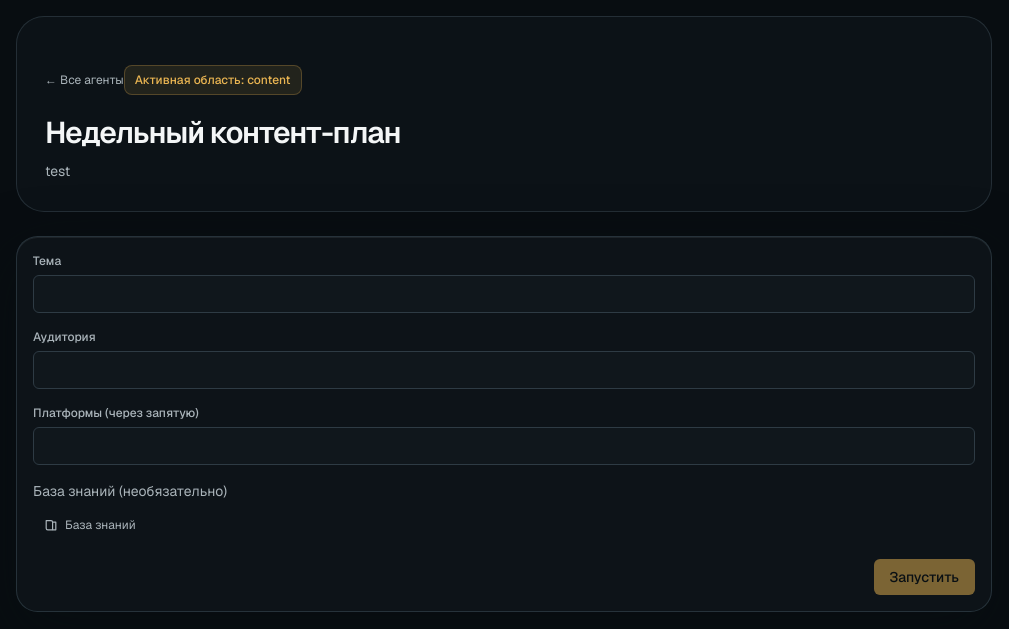
AgentRunPage › renders the weekly-content-plan result shape
Type "запуск" into the field labelled "Тема".
click(504, 294); type("запуск")  # box [33, 275, 975, 313]
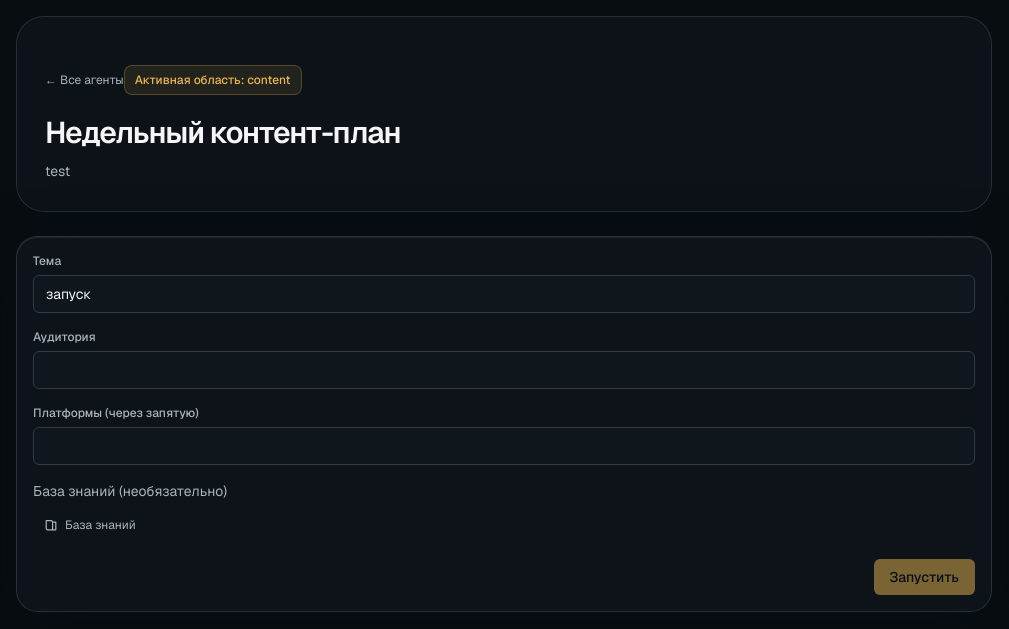
Type "малый бизнес" into the field labelled "Аудитория".
click(504, 370); type("малый бизнес")  # box [33, 351, 975, 389]
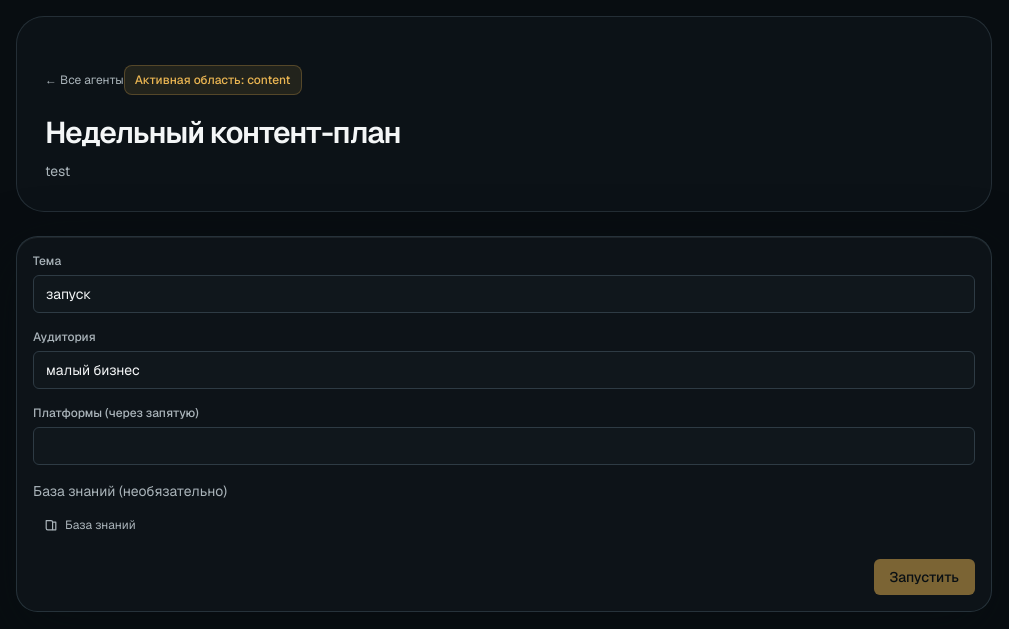
Type "Threads" into the field labelled "Платформы (через запятую)".
click(504, 446); type("Threads")  # box [33, 427, 975, 465]
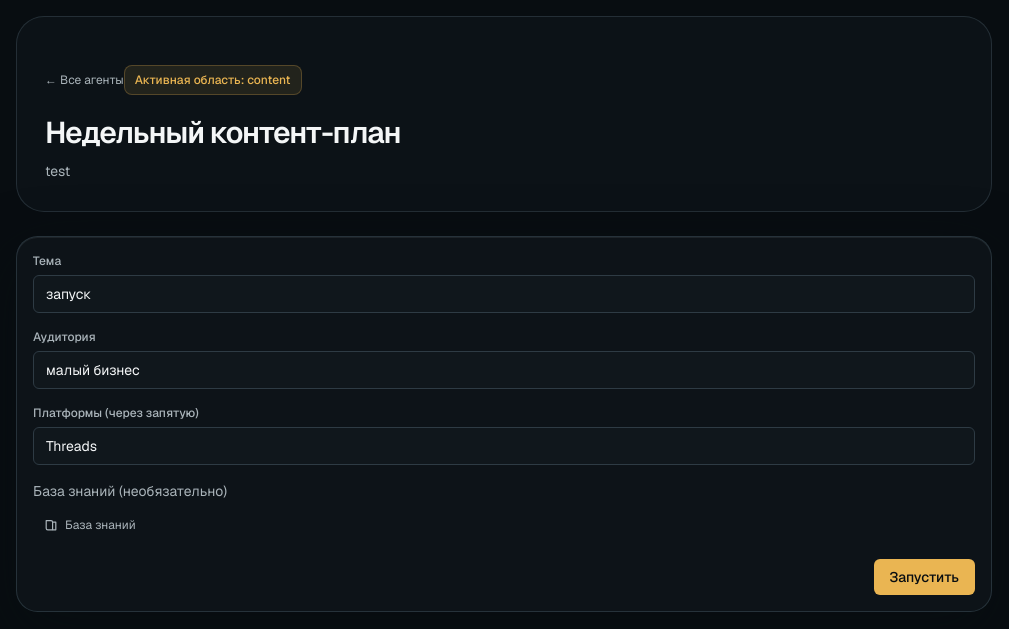
Click the button "Запустить".
click(924, 577)  # box [874, 559, 975, 595]
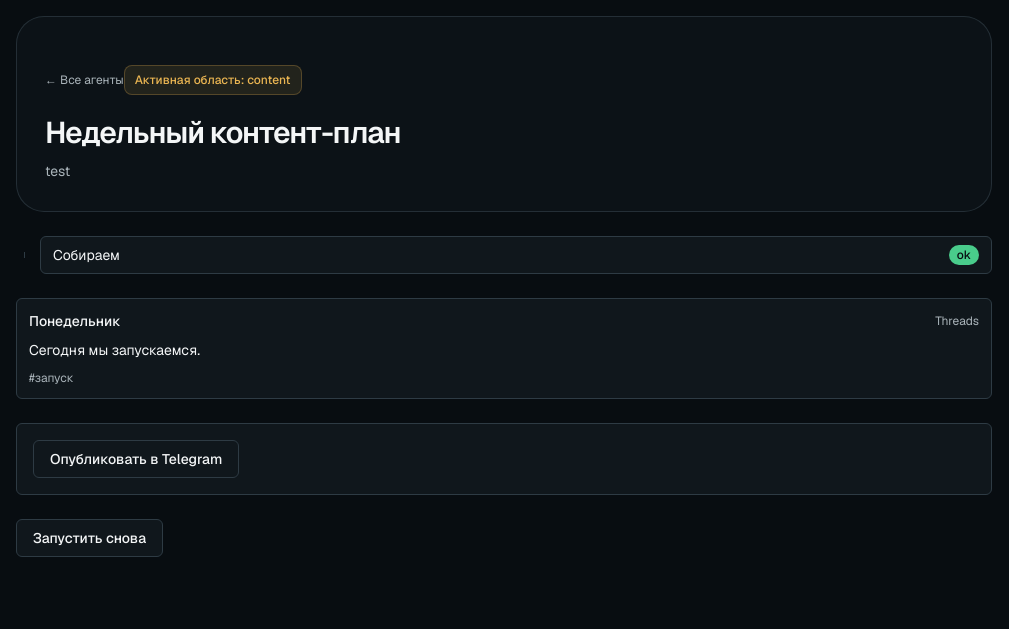
Expected: the text "Понедельник" is shown, [29, 311, 121, 331]
Expected: the text "Сегодня мы запускаемся." is shown, [29, 341, 200, 359]
